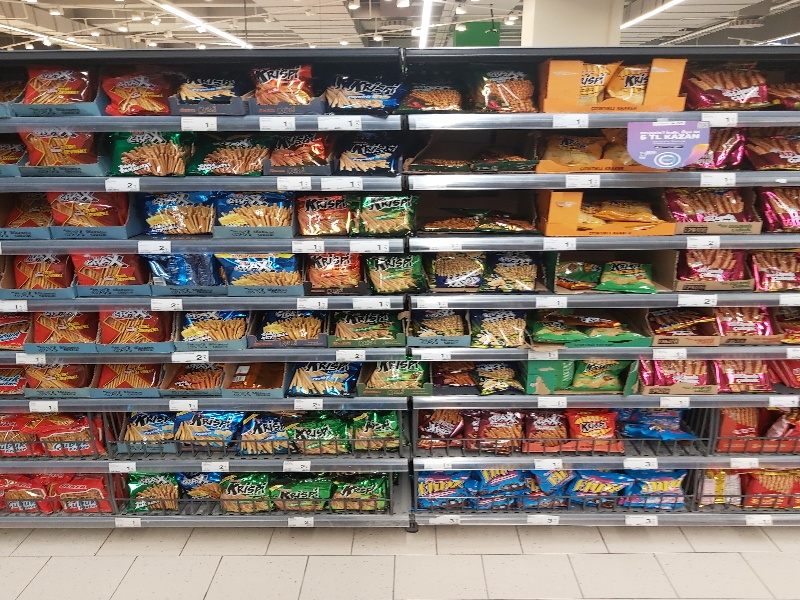product: (538, 57, 687, 115), (684, 56, 771, 115), (17, 122, 104, 181), (103, 128, 192, 177), (99, 61, 171, 118), (175, 58, 247, 115), (251, 55, 323, 112), (324, 57, 396, 114), (398, 58, 470, 115), (467, 57, 539, 114), (189, 129, 270, 178), (661, 188, 751, 230), (16, 57, 91, 105), (220, 253, 303, 296), (30, 411, 105, 457), (135, 191, 215, 233), (211, 193, 291, 235), (71, 248, 142, 295), (148, 252, 219, 299), (94, 307, 170, 350), (173, 307, 249, 350), (247, 307, 323, 350), (323, 304, 399, 347), (352, 194, 424, 238), (50, 191, 122, 234), (4, 250, 71, 296), (289, 190, 359, 234), (359, 251, 423, 299), (421, 252, 485, 300), (481, 254, 545, 302), (408, 405, 468, 456), (466, 404, 526, 455), (229, 412, 295, 458), (271, 127, 334, 175), (333, 131, 396, 179), (737, 129, 800, 177), (290, 411, 349, 462), (345, 409, 404, 460), (402, 308, 470, 352), (468, 305, 536, 349), (301, 251, 366, 296), (117, 470, 179, 517), (266, 471, 332, 515), (329, 472, 395, 516), (412, 469, 478, 513), (564, 471, 630, 515), (627, 470, 693, 514), (106, 409, 169, 453), (284, 359, 355, 398), (48, 474, 114, 515), (354, 360, 429, 396), (636, 353, 711, 389), (33, 309, 96, 351), (741, 247, 800, 290), (691, 468, 741, 518), (685, 247, 743, 290), (741, 465, 797, 508), (174, 409, 234, 449), (218, 470, 271, 515), (715, 304, 774, 343), (548, 251, 599, 294), (523, 407, 571, 452), (571, 409, 619, 454), (717, 406, 765, 451), (713, 356, 773, 390), (96, 359, 160, 390), (177, 475, 222, 514)
